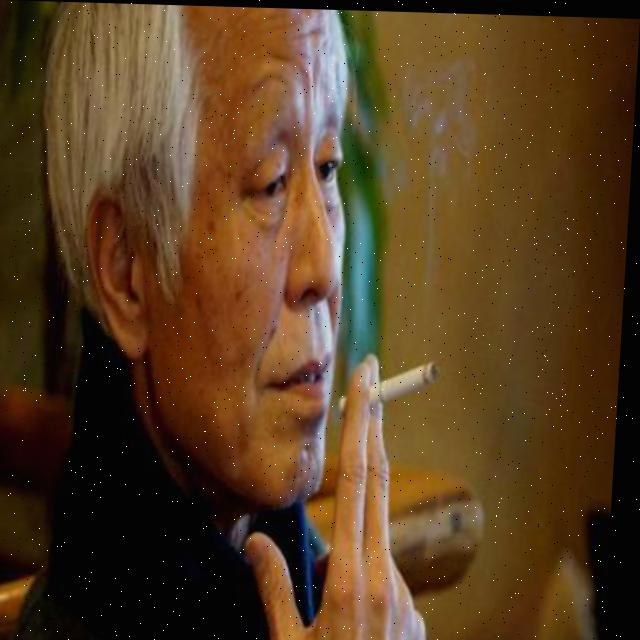cigarette: (339, 352, 445, 421)
